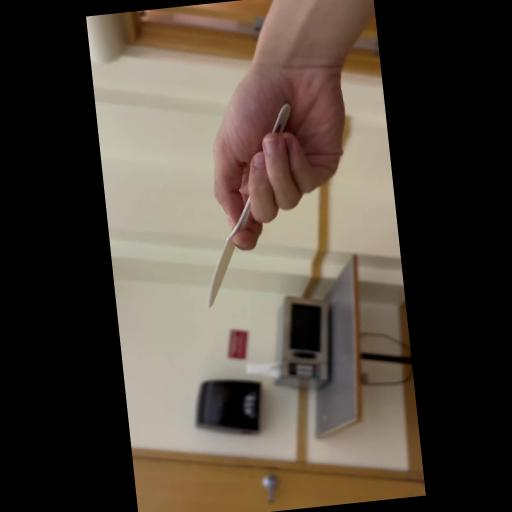utensil: (183, 99, 312, 312)
